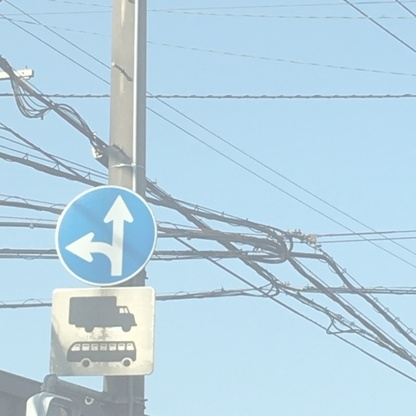Direction_sign: (53, 184, 162, 289)
